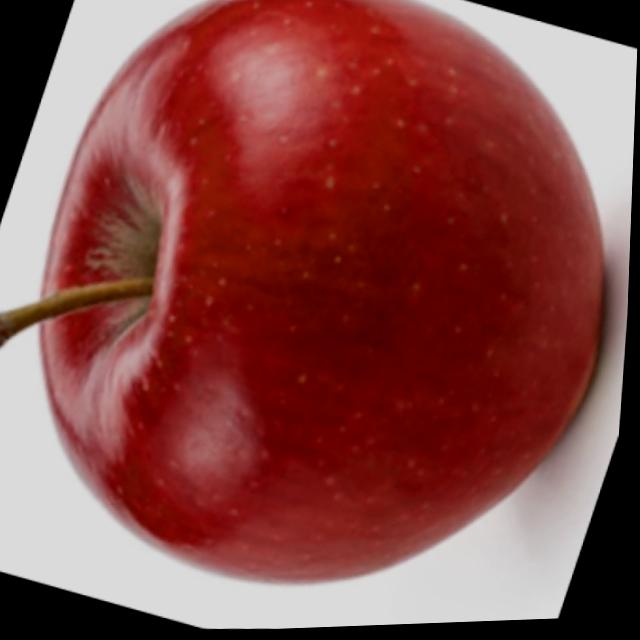organik: (0, 0, 628, 612)
